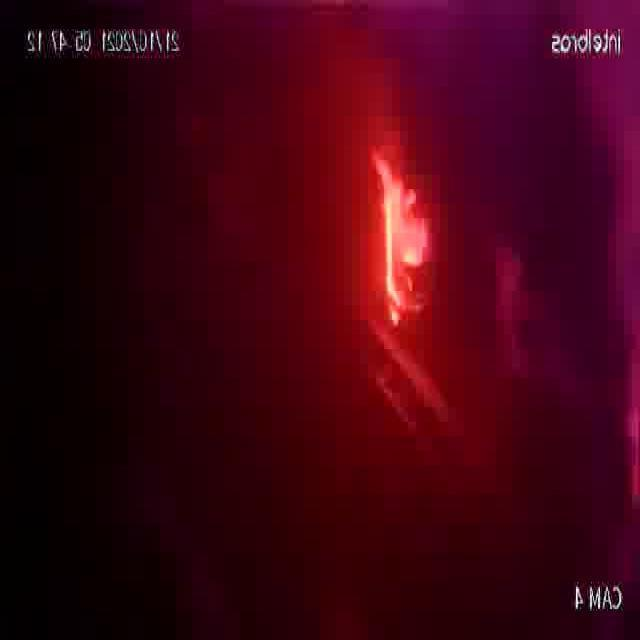Fire: (336, 88, 478, 366)
